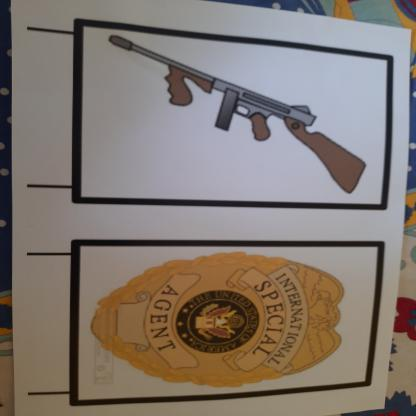Bootlegger: (54, 31, 390, 206)
G-man: (77, 235, 372, 416)
